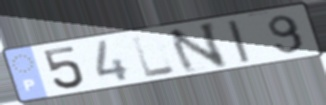4: (93, 38, 133, 84)
5: (40, 44, 87, 91)
9: (266, 12, 307, 55)
I: (224, 18, 253, 65)
L: (129, 33, 179, 79)
N: (165, 20, 230, 75)
